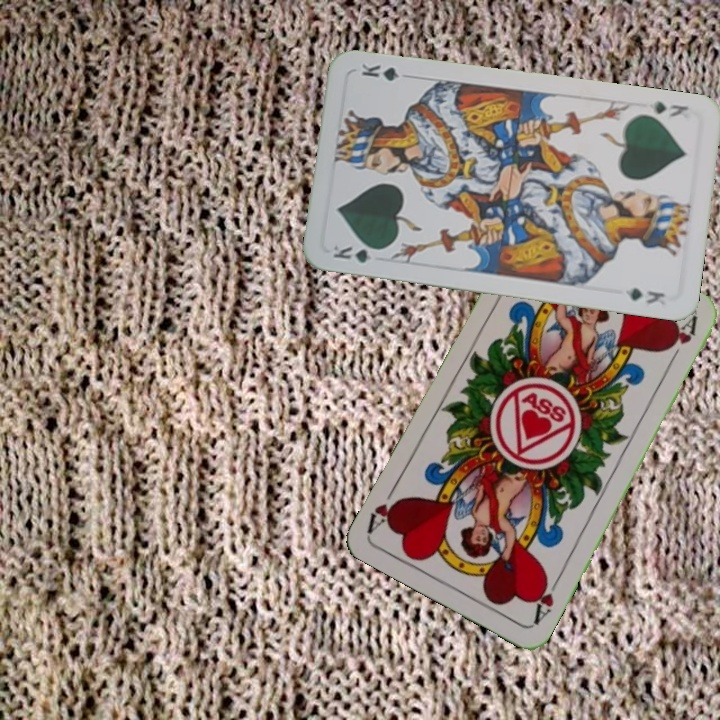GK: (326, 241, 387, 265), (649, 97, 691, 122)
HA: (529, 572, 564, 627)
